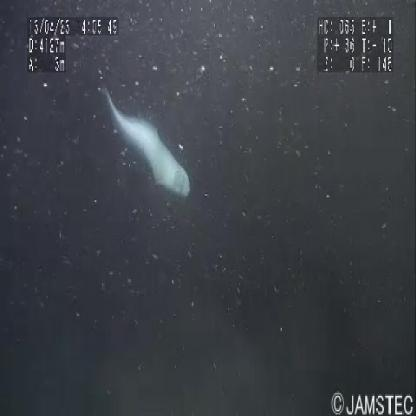Bio: (99, 84, 192, 198)
